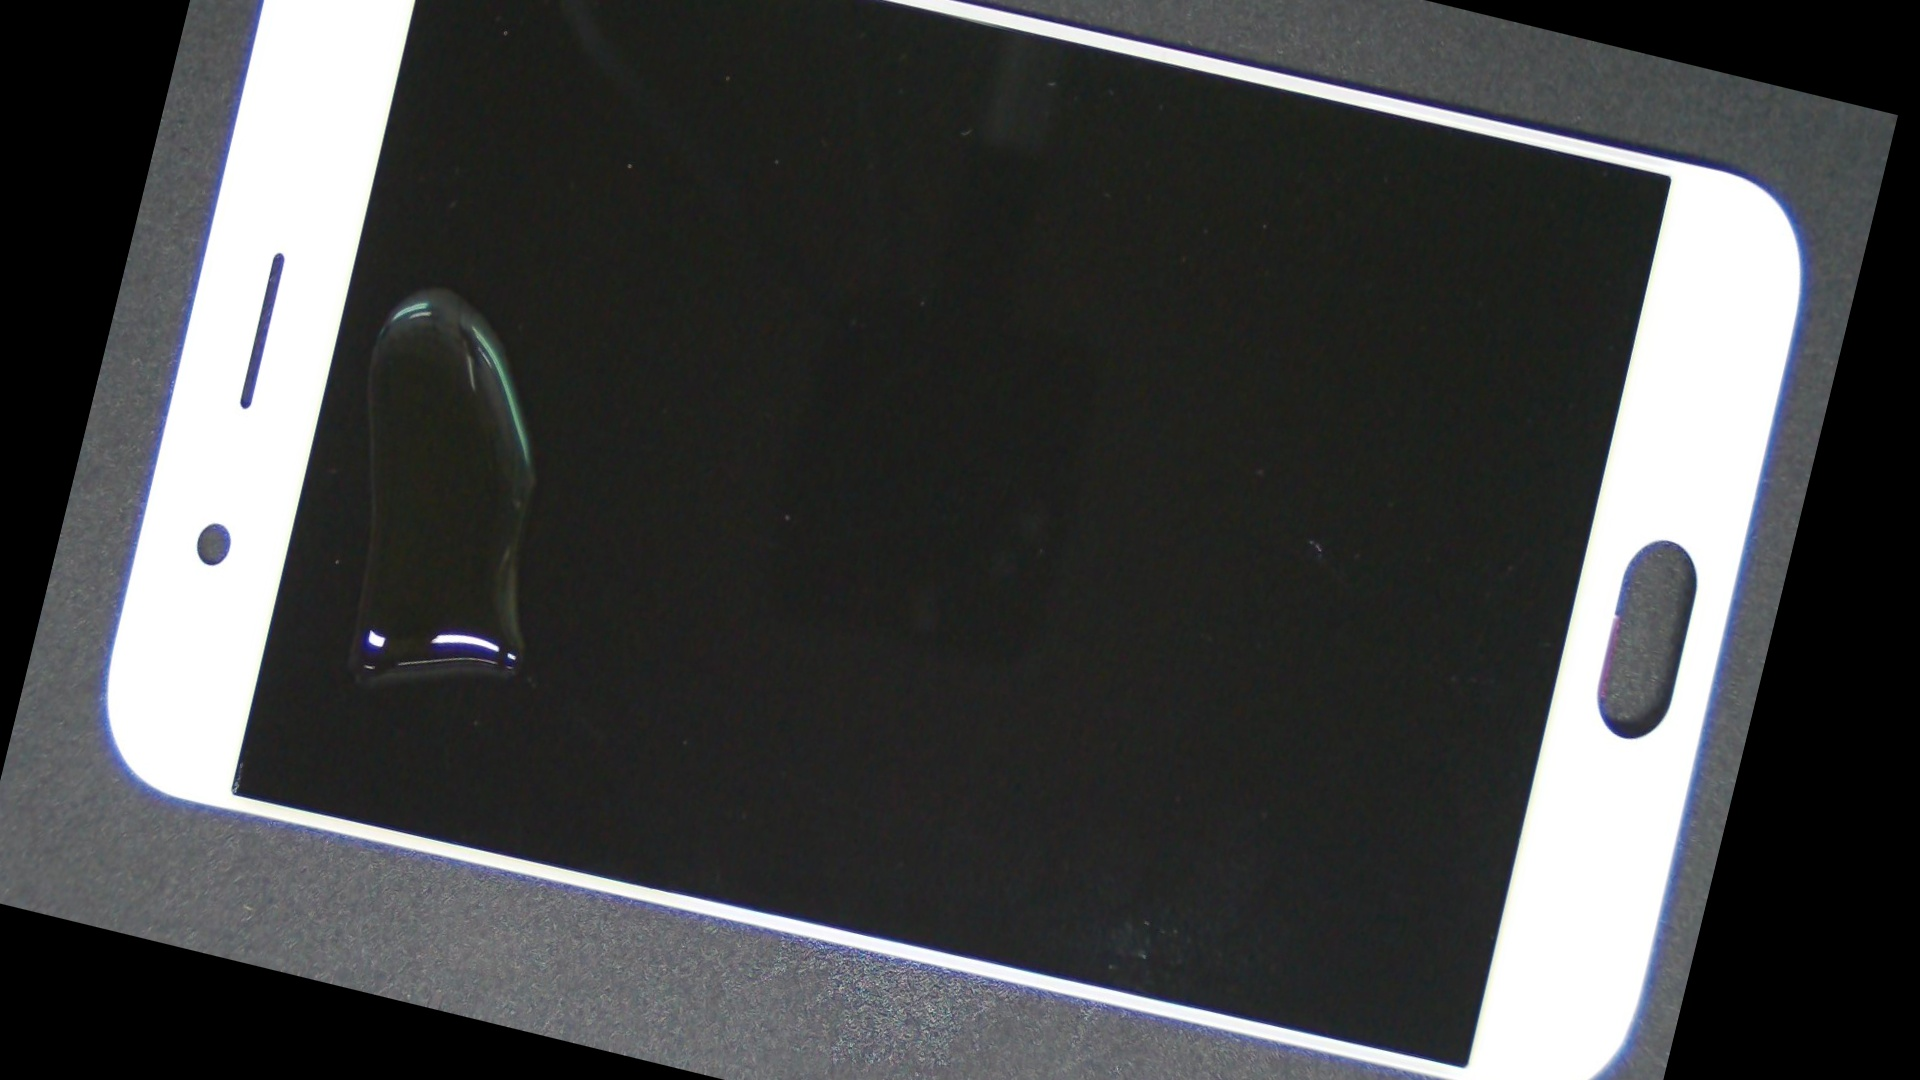oil: (232, 1, 658, 574)
